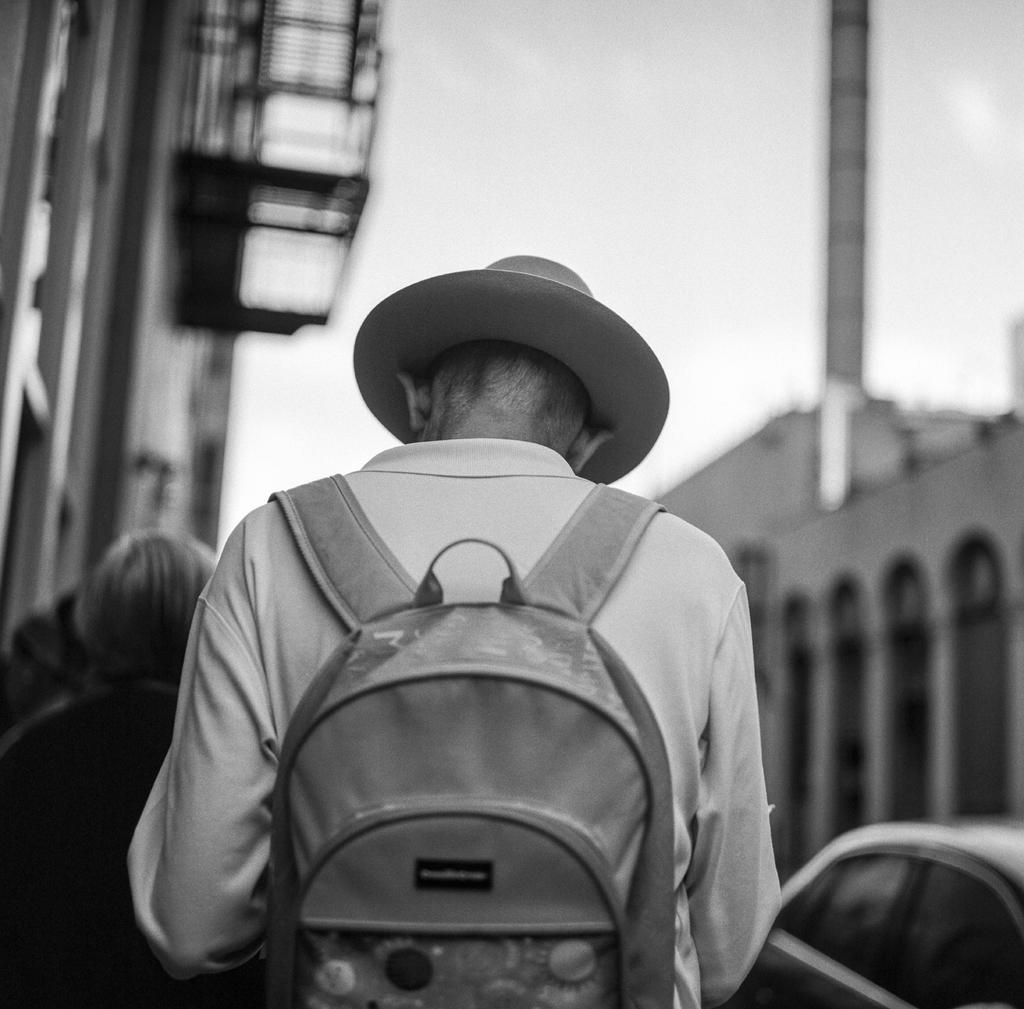Hat: (348, 252, 670, 488)
